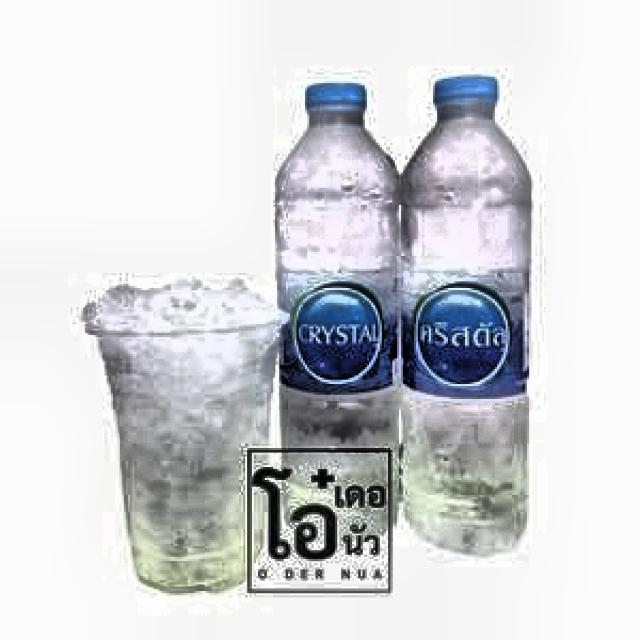Bottles: (380, 70, 560, 557), (249, 66, 417, 534)
